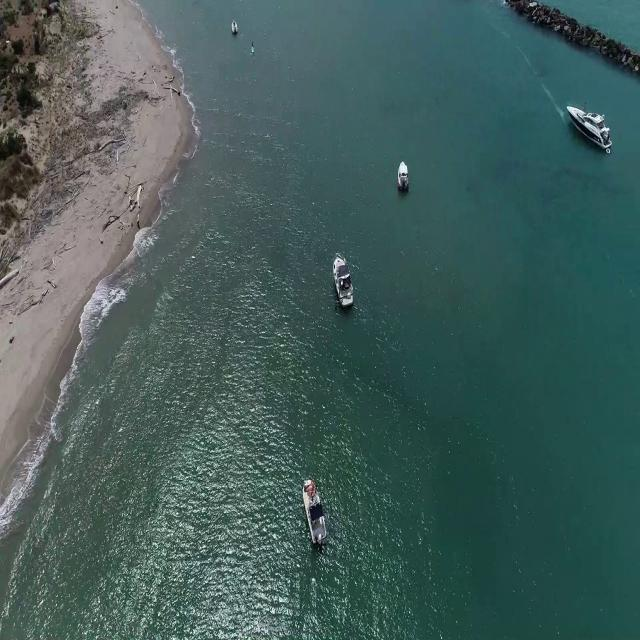boat: (566, 103, 612, 156), (304, 474, 327, 552), (334, 252, 357, 314), (399, 160, 414, 195), (230, 19, 239, 35)
person: (250, 37, 256, 49)
surfboard: (250, 46, 257, 59)
wood: (105, 184, 146, 230)
